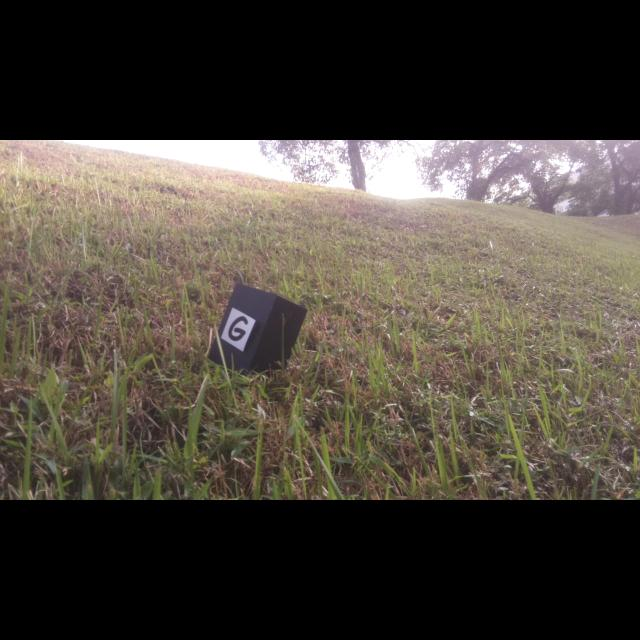G: (228, 316, 248, 341)
